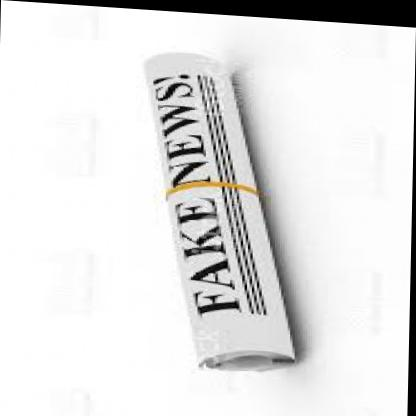Paper: (112, 6, 342, 401)
